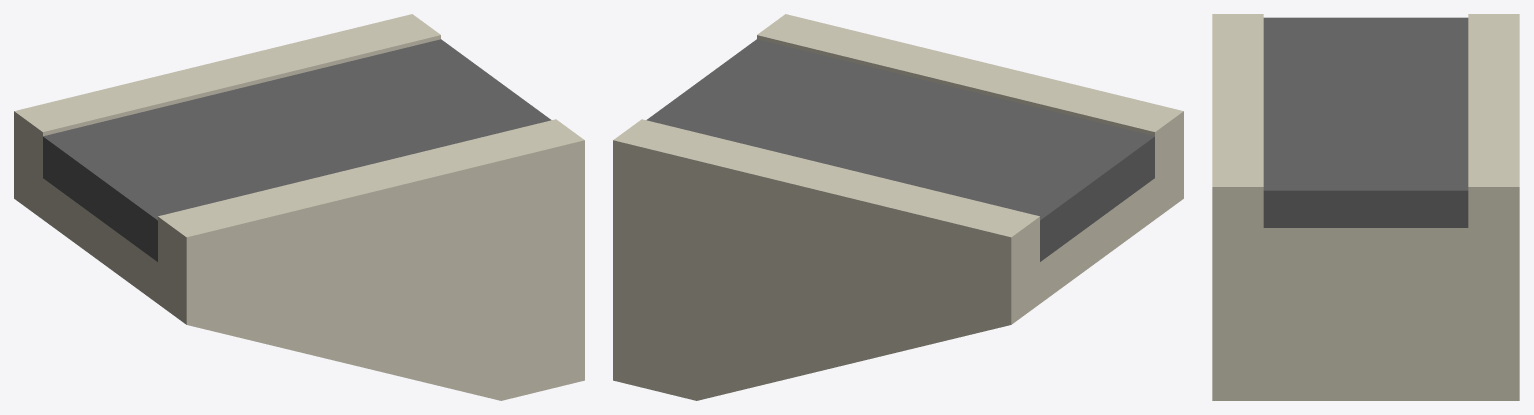
The model's file is roadTile_211.fbx.
3 views of the same model, side by side, from view 1: azimuth 30°, elevation 25°; view 2: azimuth 150°, elevation 25°; view 3: azimuth 270°, elevation 25° (orthographic). The views are drawn at different scales.
Parts seen in each view (by area): view 1: roadTile_211; view 2: roadTile_211; view 3: roadTile_211.
Part boxes in pixels (bbox=[...]): roadTile_211: bbox=[14, 14, 584, 400]; roadTile_211: bbox=[613, 14, 1183, 400]; roadTile_211: bbox=[1212, 14, 1519, 400].
Size of the model in its own units: 118 by 68.11 by 88.58.
